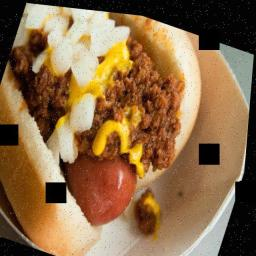hotdog: (0, 0, 223, 256)
